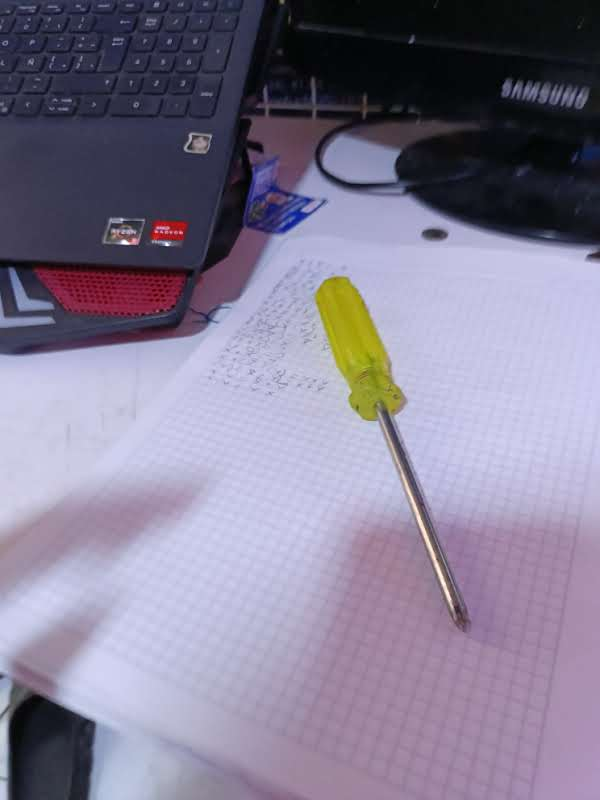Destornillador: (316, 277, 469, 630)
